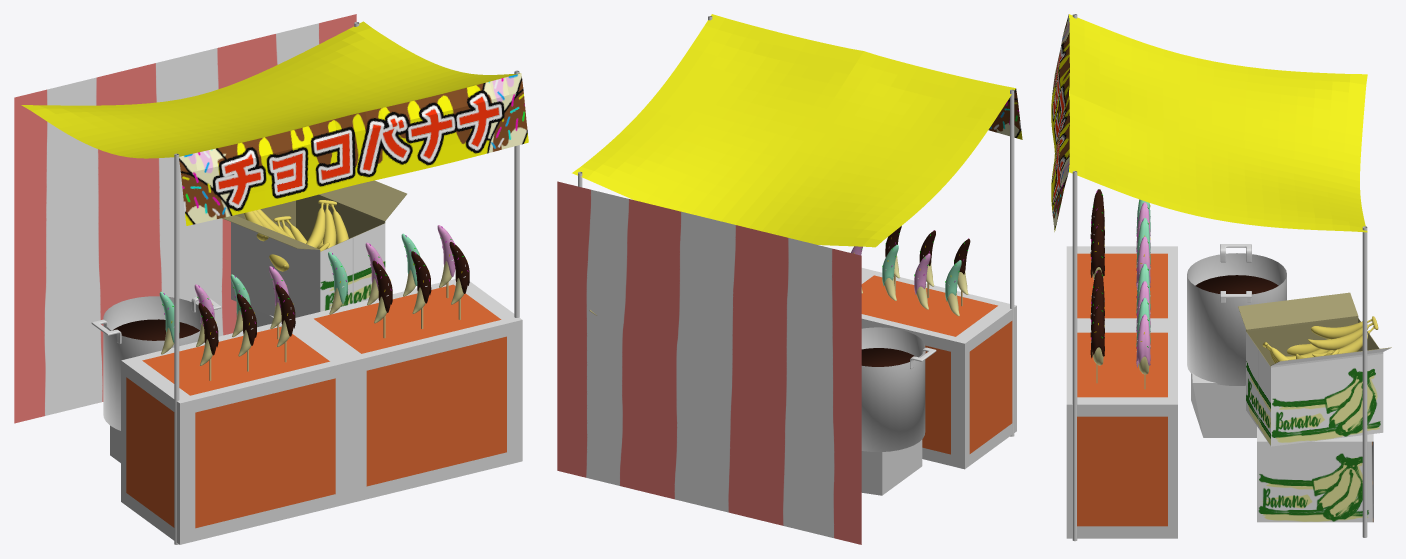
The picture shows the model from 3 angles, left to right: view 1: azimuth 30°, elevation 25°; view 2: azimuth 150°, elevation 25°; view 3: azimuth 270°, elevation 25°; orthographic projection. The views are drawn at different scales.
Parts seen in each view (by area): view 1: 立方体.008, 平面.008, 平面.007, 立方体.014, 平面.009, 円柱.019, 円柱.002, 円柱.003, 円柱.048, 円柱.038, 円柱.007, 円柱.006; view 2: 平面.008, 平面.007, 立方体.008, 平面.009, 立方体, 円柱.019, 円柱.003, 円柱.005, 円柱.009, 円柱.006; view 3: 平面.007, 立方体.008, 立方体.014, 立方体.013, 平面.009, 立方体, 円柱.019, 円柱.020, 円柱.050, 円柱.002, 円柱.003, 円柱.007 (+2 smaller).
Boxes of the visible parts, <box> form: 立方体.008: <box>121,279,522,544</box>; 平面.008: <box>14,14,356,423</box>; 平面.007: <box>21,21,528,225</box>; 立方体.014: <box>222,180,406,317</box>; 平面.009: <box>91,296,221,430</box>; 円柱.019: <box>174,70,519,544</box>; 円柱.002: <box>372,242,469,338</box>; 円柱.003: <box>198,284,295,380</box>; 円柱.048: <box>306,200,348,247</box>; 円柱.038: <box>328,251,347,314</box>; 円柱.007: <box>437,225,455,287</box>; 円柱.006: <box>159,291,179,354</box>; 平面.008: <box>557,181,861,544</box>; 平面.007: <box>572,14,1022,247</box>; 立方体.008: <box>861,268,1016,469</box>; 平面.009: <box>861,327,936,451</box>; 立方体: <box>861,439,922,495</box>; 円柱.019: <box>708,16,1014,436</box>; 円柱.003: <box>885,226,970,306</box>; 円柱.005: <box>882,244,898,300</box>; 円柱.009: <box>914,253,930,309</box>; 円柱.006: <box>945,260,961,316</box>; 平面.007: <box>1051,14,1367,232</box>; 立方体.008: <box>1066,246,1177,538</box>; 立方体.014: <box>1238,292,1391,446</box>; 立方体.013: <box>1257,426,1373,522</box>; 平面.009: <box>1187,244,1286,385</box>; 立方体: <box>1191,373,1256,437</box>; 円柱.019: <box>1072,14,1077,541</box>; 円柱.020: <box>1362,226,1367,537</box>; 円柱.050: <box>1308,316,1378,356</box>; 円柱.002: <box>1090,269,1104,383</box>; 円柱.003: <box>1090,189,1104,278</box>; 円柱.007: <box>1136,314,1150,374</box>.
Bounding box in the file's own units: 2.03 × 2.21 × 1.82.
22 materials, 6 textured.
